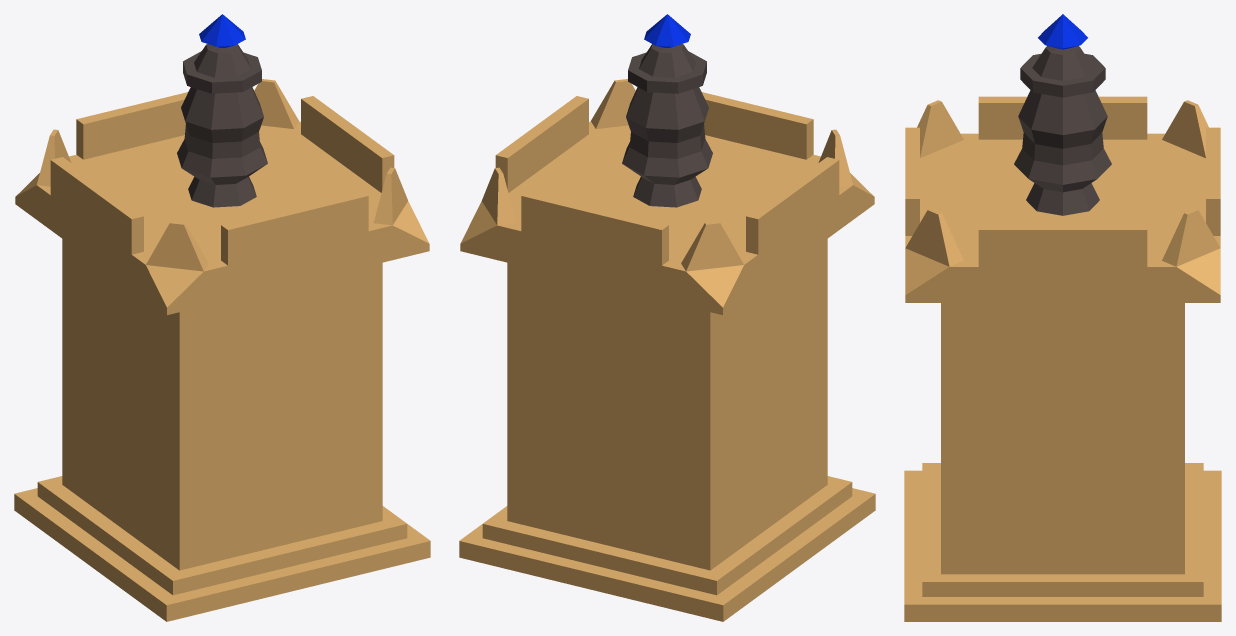
Rendered from Felacteria.fbx.
3 views of the same model, side by side, from view 1: azimuth 30°, elevation 25°; view 2: azimuth 150°, elevation 25°; view 3: azimuth 270°, elevation 25° (orthographic). The views are drawn at different scales.
Visible parts, largest first — view 1: Cube.002; view 2: Cube.002; view 3: Cube.002.
Part boxes in pixels (x1,y1,x2,y2): Cube.002: (14,14,430,621); Cube.002: (459,14,875,621); Cube.002: (904,14,1221,621).
Bounding box in the file's own units: 400 × 753 × 400.
